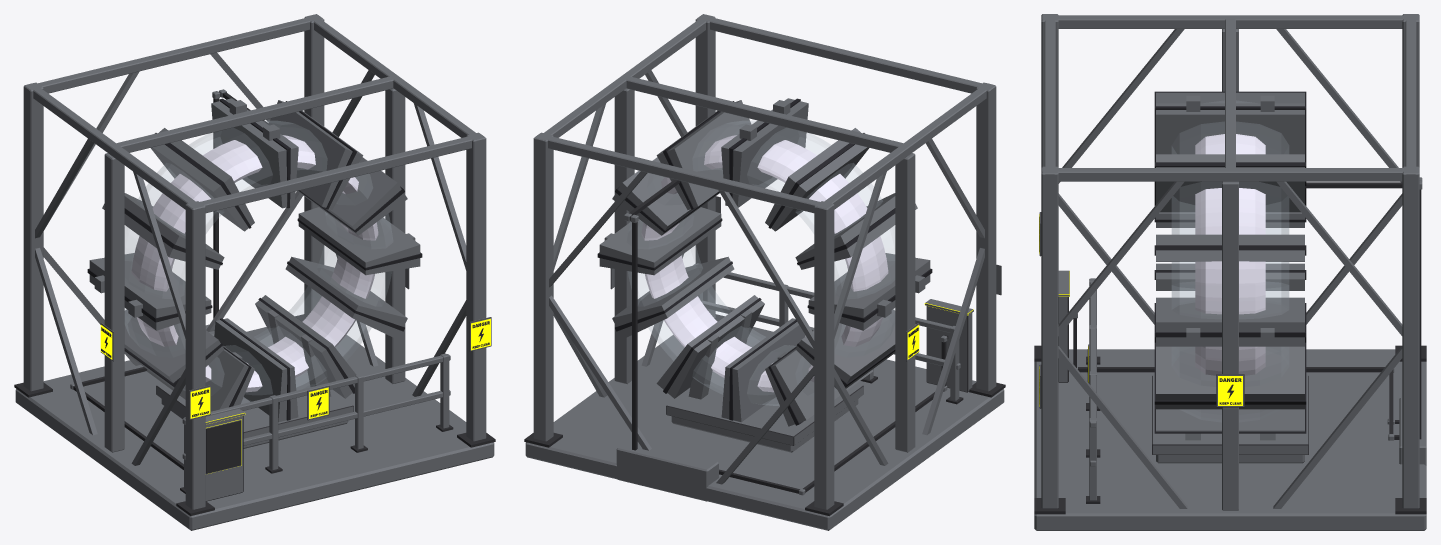
The model's file is BatteryS5.fbx.
3 renders of one model, left to right at view 1: azimuth 30°, elevation 25°; view 2: azimuth 150°, elevation 25°; view 3: azimuth 270°, elevation 25°, orthographic. The views are drawn at different scales.
Visible parts, largest first — view 1: Frame, Ring, Band, Seams, Signs, Wiring; view 2: Frame, Ring, Band, Seams, Wiring, Signs; view 3: Frame, Ring, Band, Seams, Wiring, Signs.
Part boxes in pixels (x1,y1,x2,y2): Frame: [14, 14, 495, 530]; Ring: [89, 98, 420, 422]; Band: [131, 135, 378, 392]; Seams: [87, 98, 422, 420]; Signs: [100, 268, 491, 420]; Wiring: [70, 89, 268, 469]; Frame: [524, 14, 1005, 530]; Ring: [599, 98, 930, 426]; Band: [641, 135, 888, 392]; Seams: [597, 98, 932, 425]; Wiring: [624, 179, 948, 495]; Signs: [610, 196, 1001, 361]; Frame: [1034, 14, 1426, 530]; Ring: [1156, 92, 1304, 431]; Band: [1195, 134, 1265, 375]; Seams: [1154, 91, 1306, 433]; Wiring: [1073, 177, 1422, 440]; Signs: [1039, 212, 1244, 408].
Size of the model in its own units: 5 by 5 by 5.
